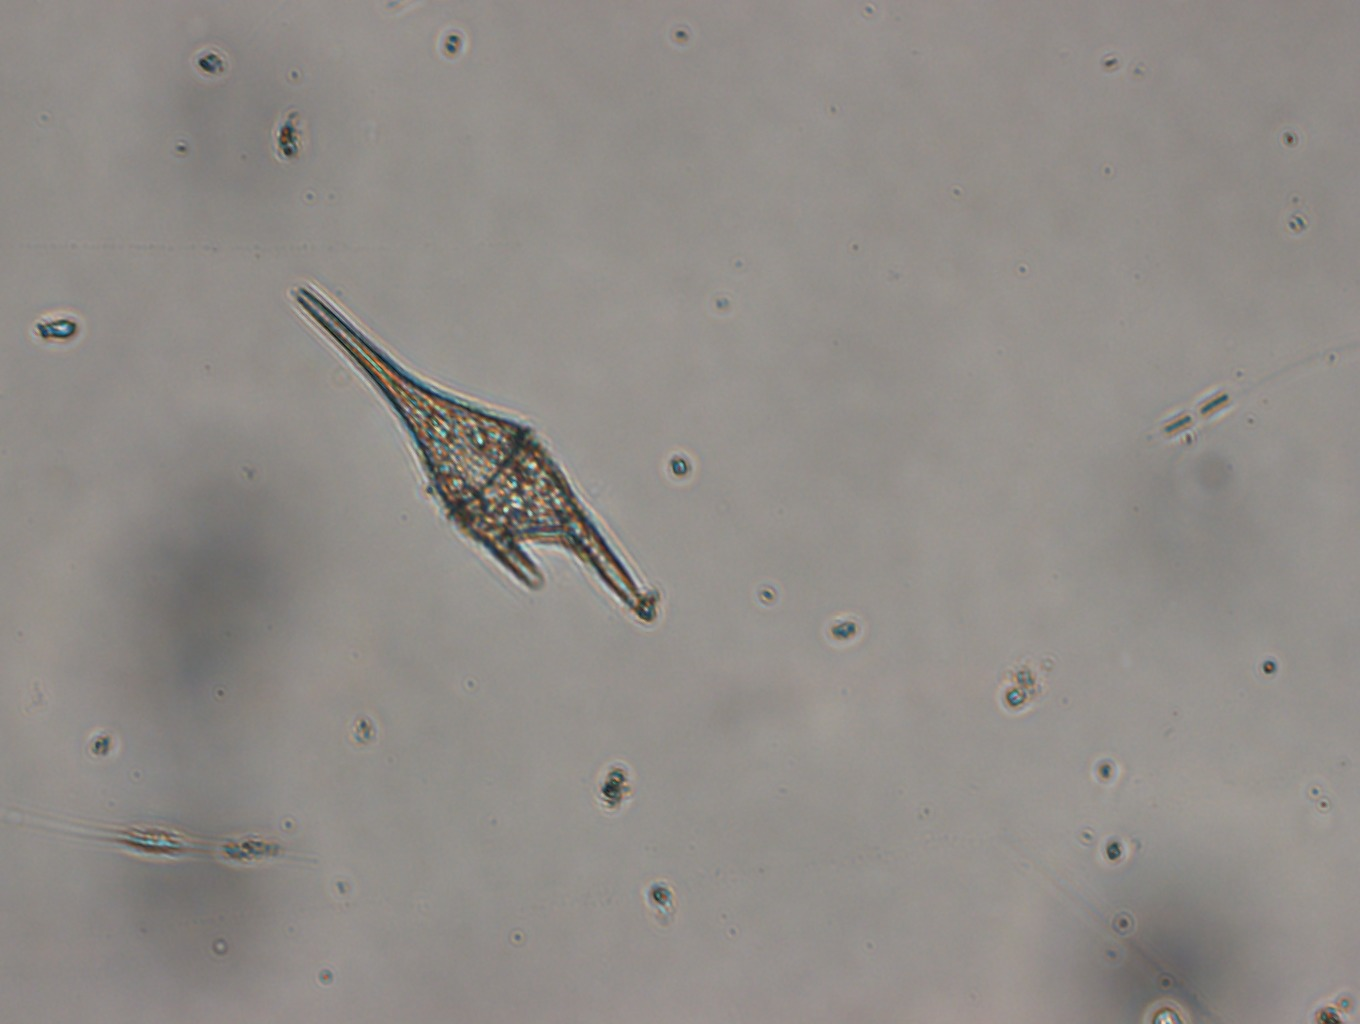ceratium furca: (281, 278, 681, 629)
